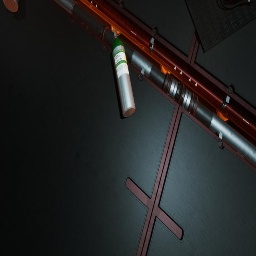0: (112, 28, 136, 117), (3, 0, 19, 12)
FireExtinguisher ]: (220, 0, 254, 9)
